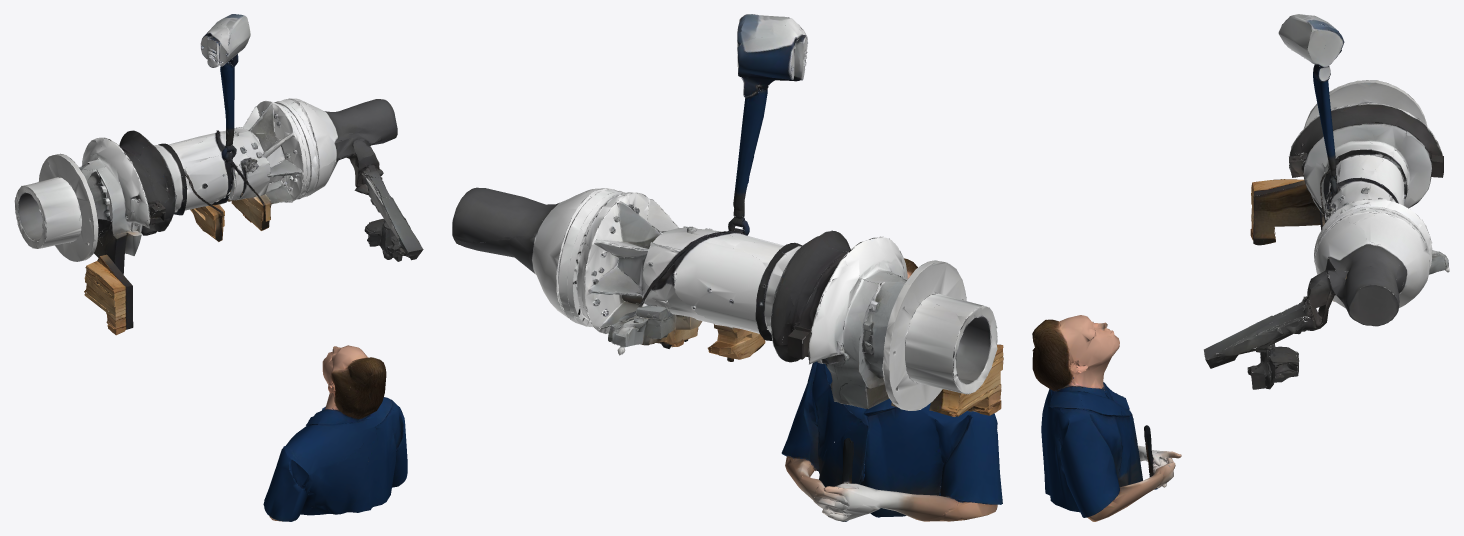
Rendered from telescopic.glb.
3 views of the same model, side by side, from view 1: azimuth 30°, elevation 25°; view 2: azimuth 150°, elevation 25°; view 3: azimuth 270°, elevation 25° (orthographic). The views are drawn at different scales.
Parts seen in each view (by area): view 1: model; view 2: model; view 3: model.
Boxes of the visible parts, x1,y1,x2,y2 form: model: [14, 14, 423, 521]; model: [452, 14, 1003, 521]; model: [1032, 14, 1449, 521].
Size of the model in its own units: 1.74 by 1.9 by 1.55.
1 material, 1 textured.
